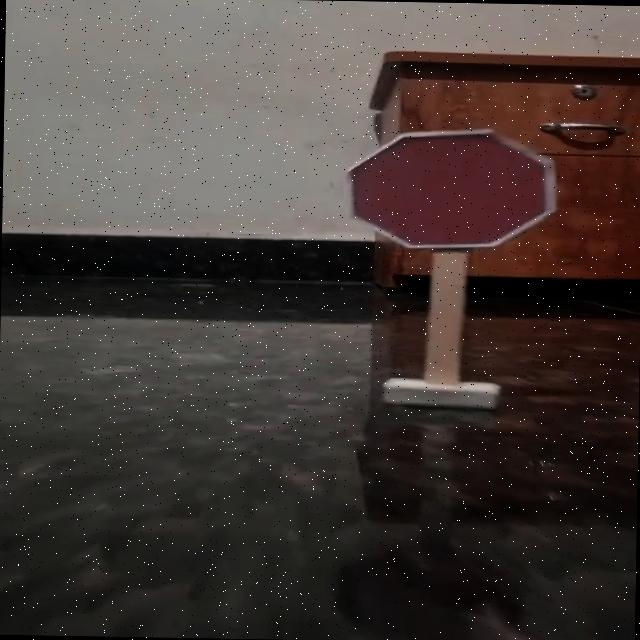Stop: (329, 118, 573, 258)
